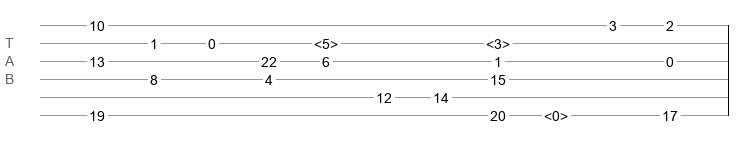0: (208, 36, 216, 46), (666, 54, 674, 64)
1: (150, 36, 158, 46), (494, 54, 502, 64)
10: (89, 18, 105, 28)
12: (376, 90, 392, 100)
13: (89, 54, 105, 64)
14: (433, 90, 449, 100)
15: (490, 72, 506, 82)
17: (662, 108, 678, 118)
19: (89, 108, 105, 118)
2: (666, 18, 674, 28)
20: (490, 108, 506, 118)
22: (261, 54, 277, 64)
3: (609, 18, 617, 28)
4: (265, 72, 273, 82)
6: (322, 54, 330, 64)
8: (150, 72, 158, 82)
harmonic: (314, 36, 338, 46), (486, 36, 510, 46), (544, 108, 568, 118)
